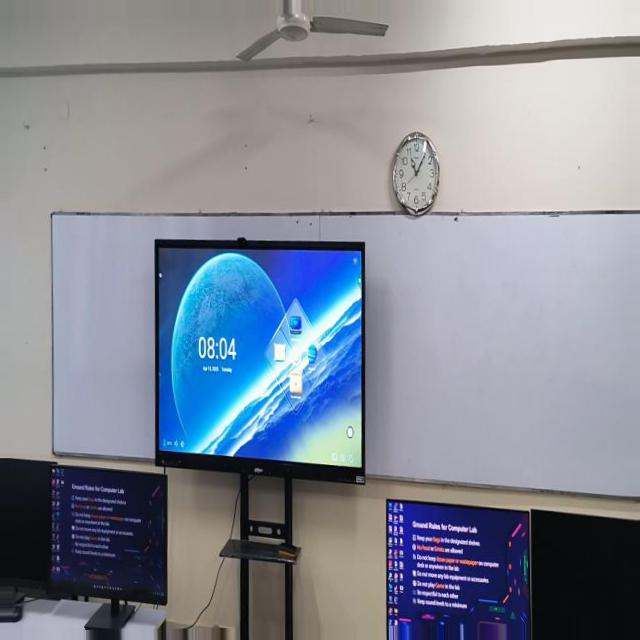Digital board: (149, 233, 366, 639)
Monitor: (39, 468, 161, 639), (384, 508, 530, 639), (532, 520, 640, 639), (0, 459, 44, 589)
Mouse: (0, 611, 12, 630)
